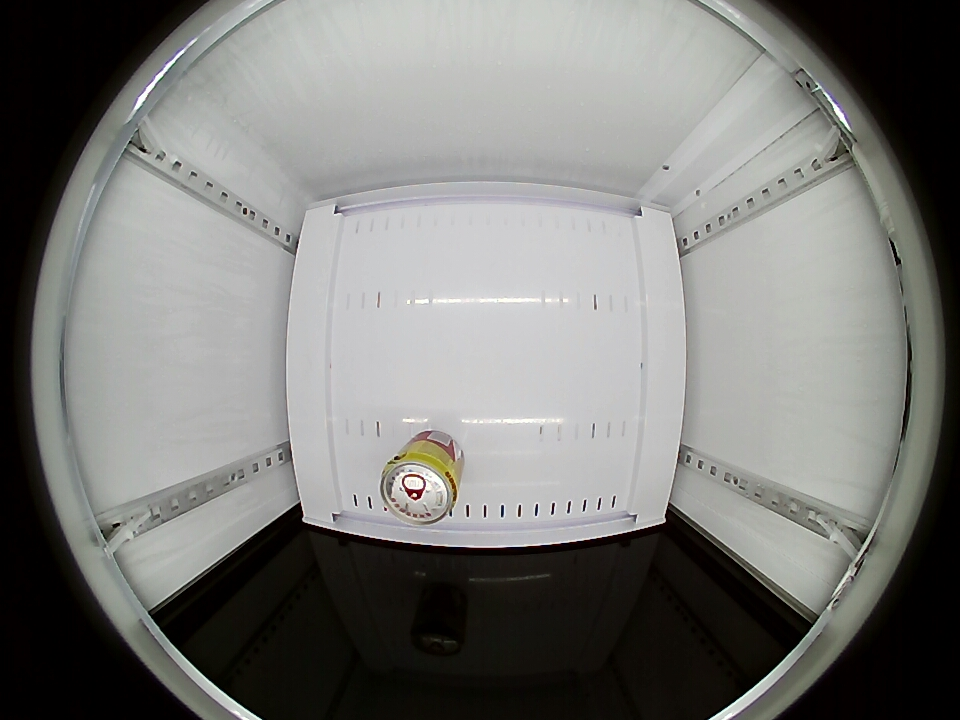dongpeng: (379, 446, 463, 525)
